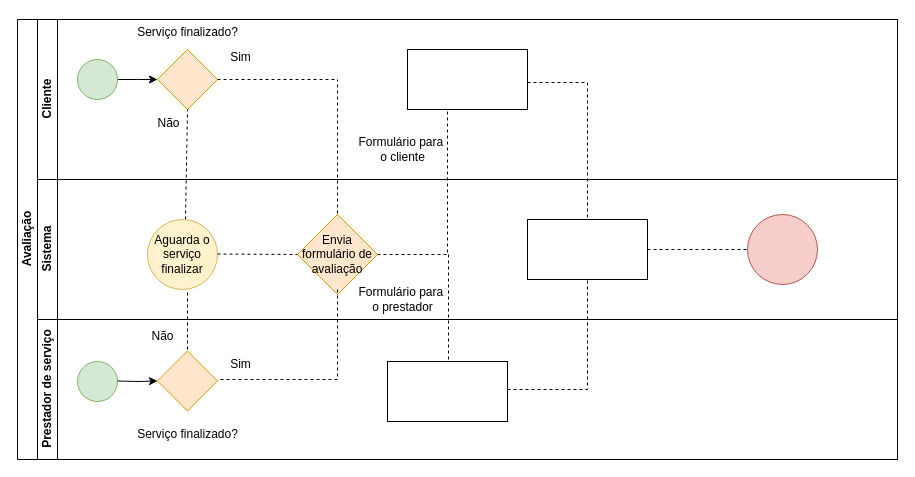
This 915x477 diagram has some shape labels left out. The shapes that lost their labels are listed below. From the top down, each one's centre as x and y in pixels, then its label:
At [467,79]: "Cliente avalia o prestador de serviço".
At [587,249]: "Nota atualizada".
At [447,391]: "Prestador de serviço avalia o cliente".
